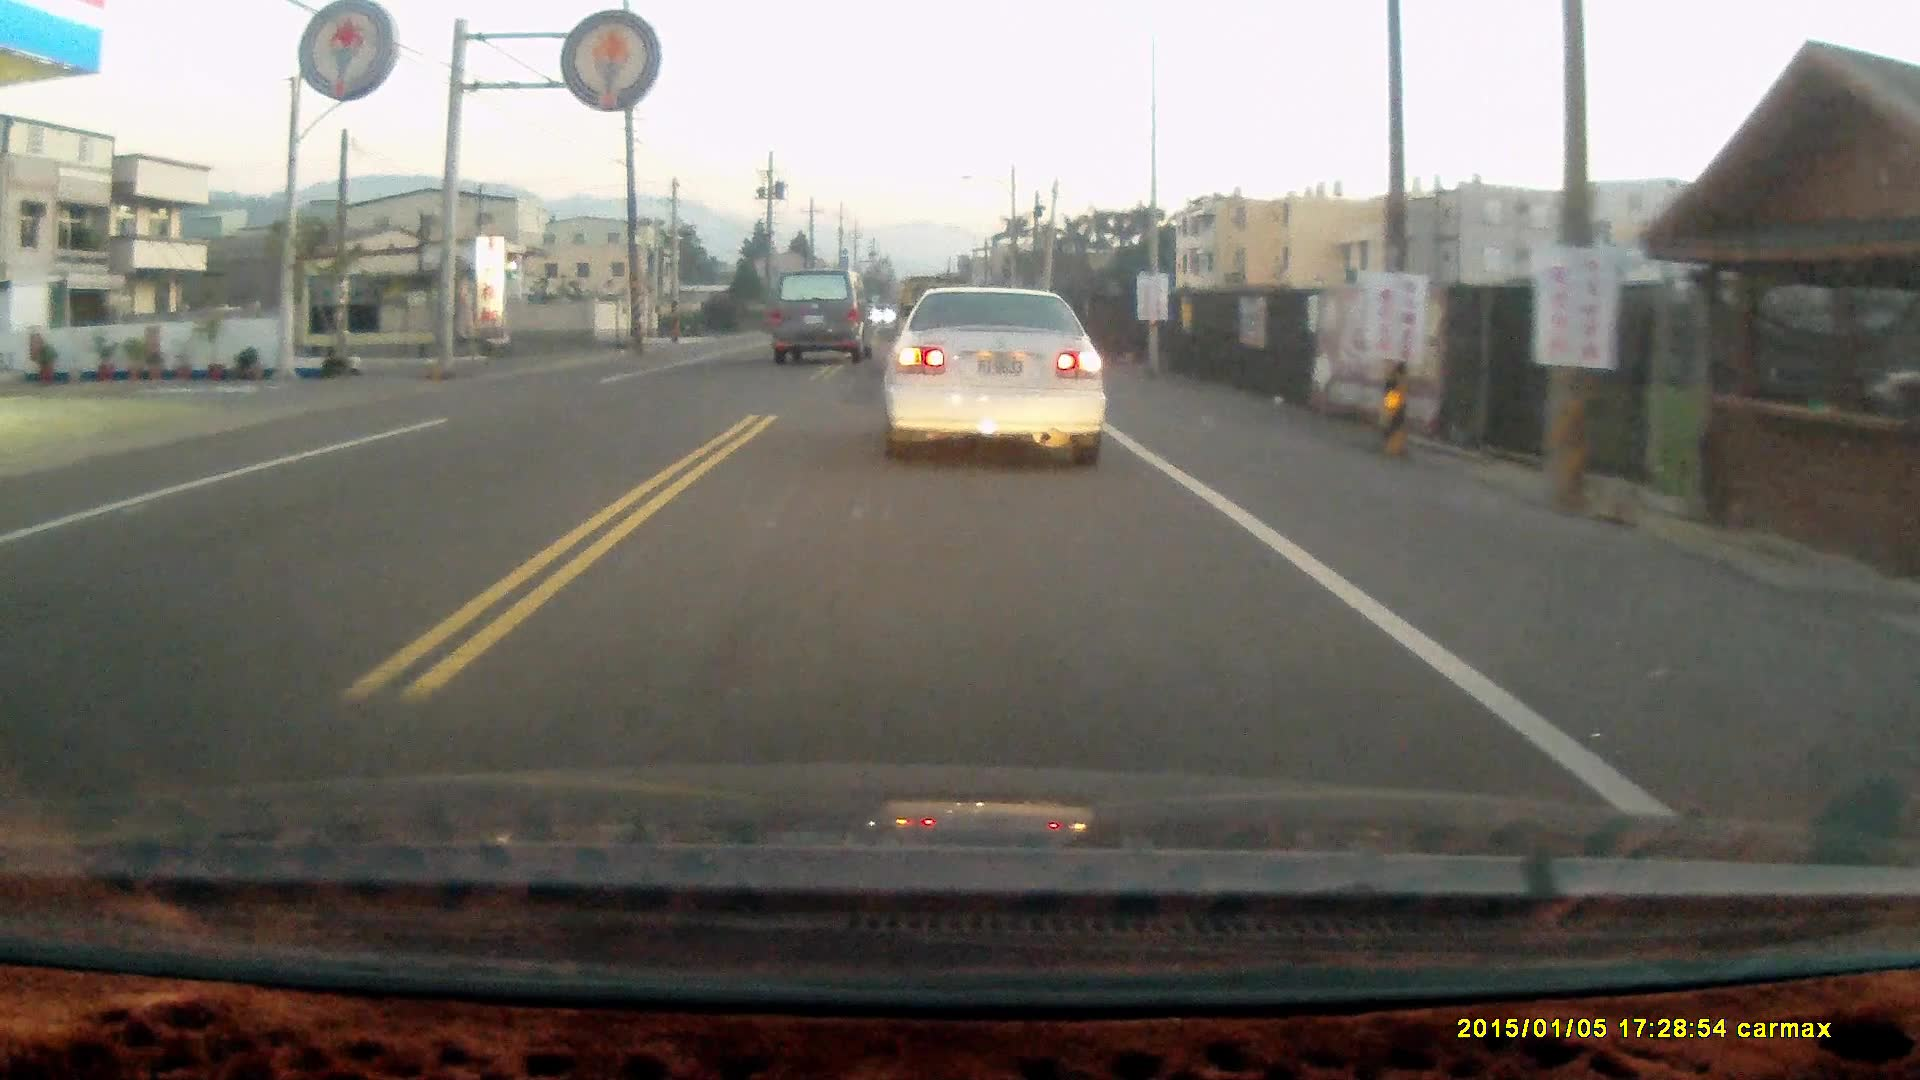vehicle: (877, 284, 1112, 473), (764, 270, 877, 373)
